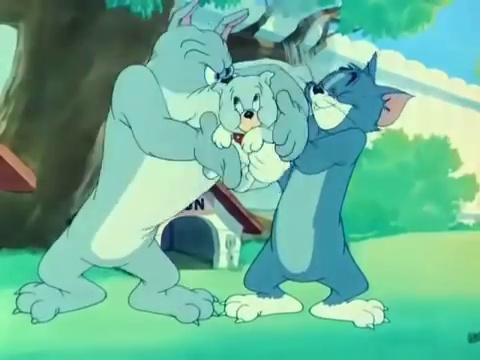tom: (302, 47, 415, 149)
